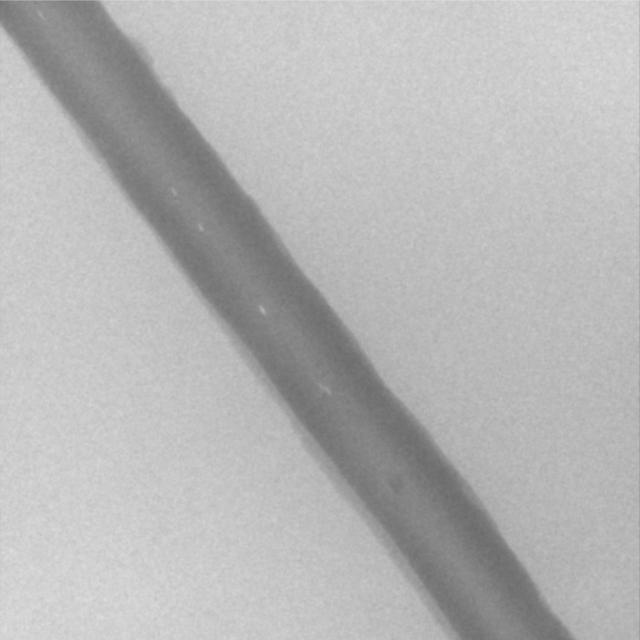air hole: (258, 303, 269, 318), (195, 220, 204, 233), (168, 184, 177, 197)
